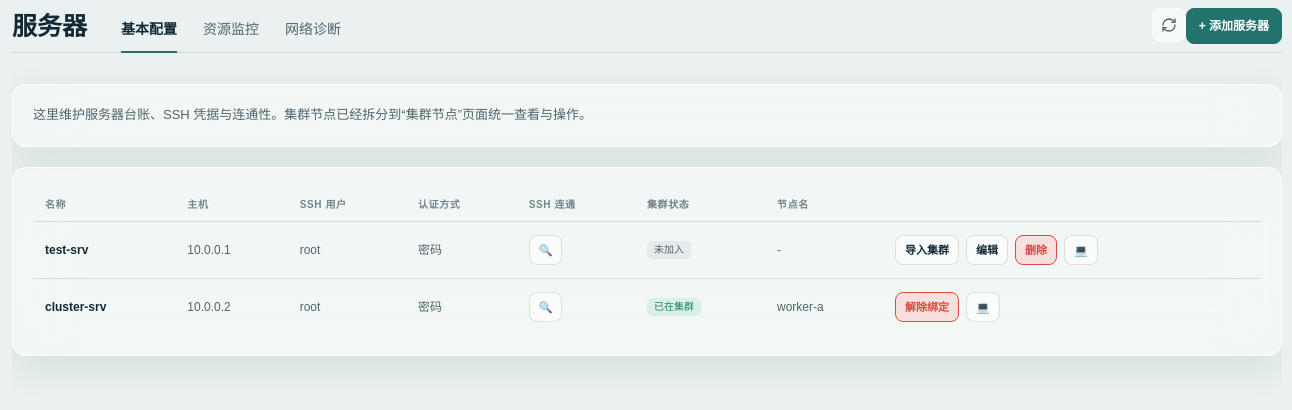
Scenario: Servers view › shows resource monitoring and forwards an AbortSignal
The width and height of the screenshot is (1292, 410).
Click the button with class "section-tab" showing "资源监控": (231, 36) [203, 19, 259, 52]
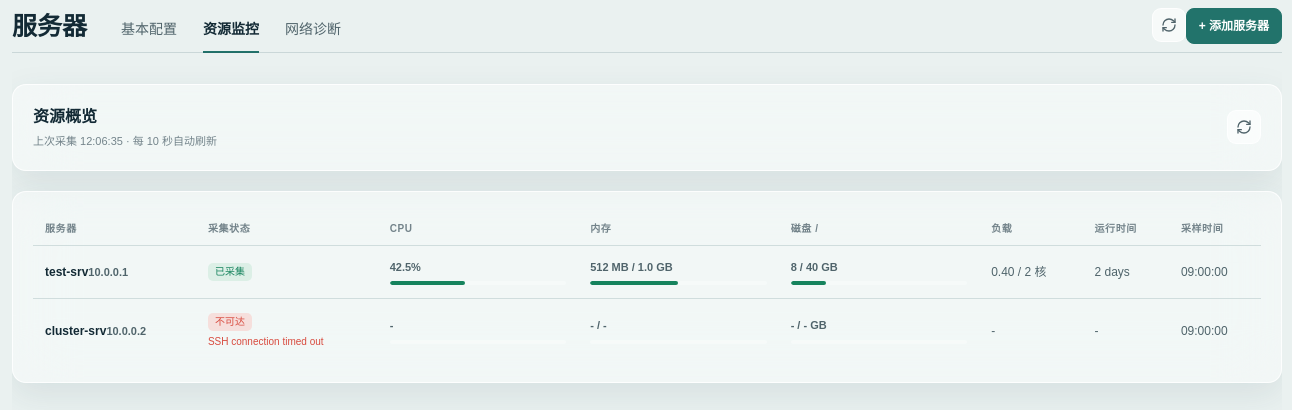
expect the text "资源概览" is shown: met, box [33, 108, 97, 125]
expect the text "42.5%" is shown: met, box [390, 260, 421, 272]
expect the text "不可达" is shown: met, box [208, 313, 252, 331]
